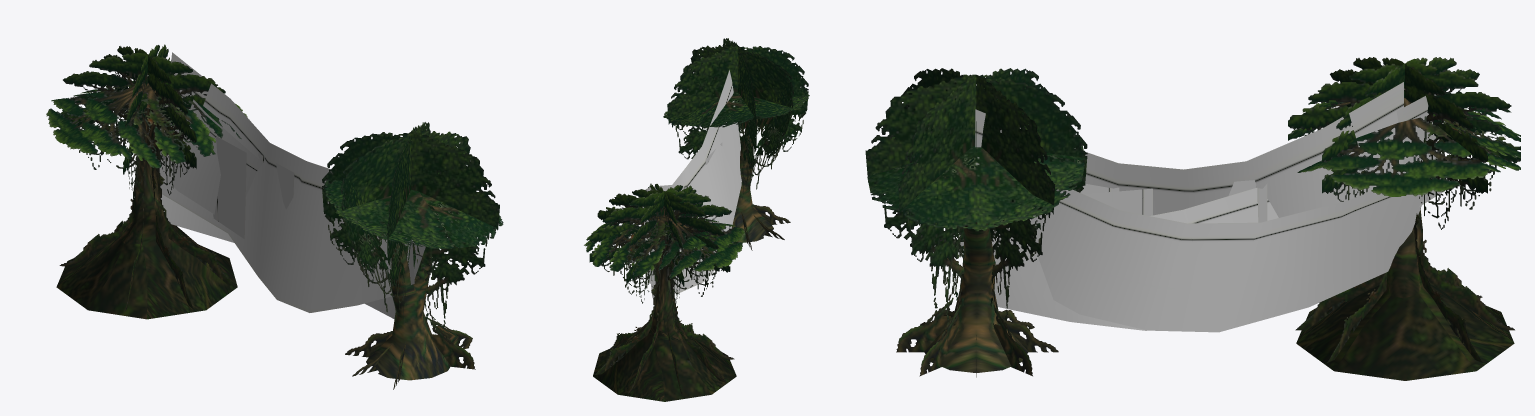
Rendered from pine2.obj.
3 renders of one model, left to right at view 1: azimuth 30°, elevation 25°; view 2: azimuth 150°, elevation 25°; view 3: azimuth 270°, elevation 25°, orthographic. The views are drawn at different scales.
Parts seen in each view (by area): view 1: jungle_tree2.001; view 2: jungle_tree2.001; view 3: jungle_tree2.001.
Boxes of the visible parts, left/top/right/bottom form: jungle_tree2.001: left=46, top=44, right=503, bottom=389; jungle_tree2.001: left=584, top=38, right=809, bottom=401; jungle_tree2.001: left=865, top=57, right=1520, bottom=380.
Size of the model in its own units: 26.4 by 25.55 by 49.23.
Materials: 3 (3 with a texture image).
